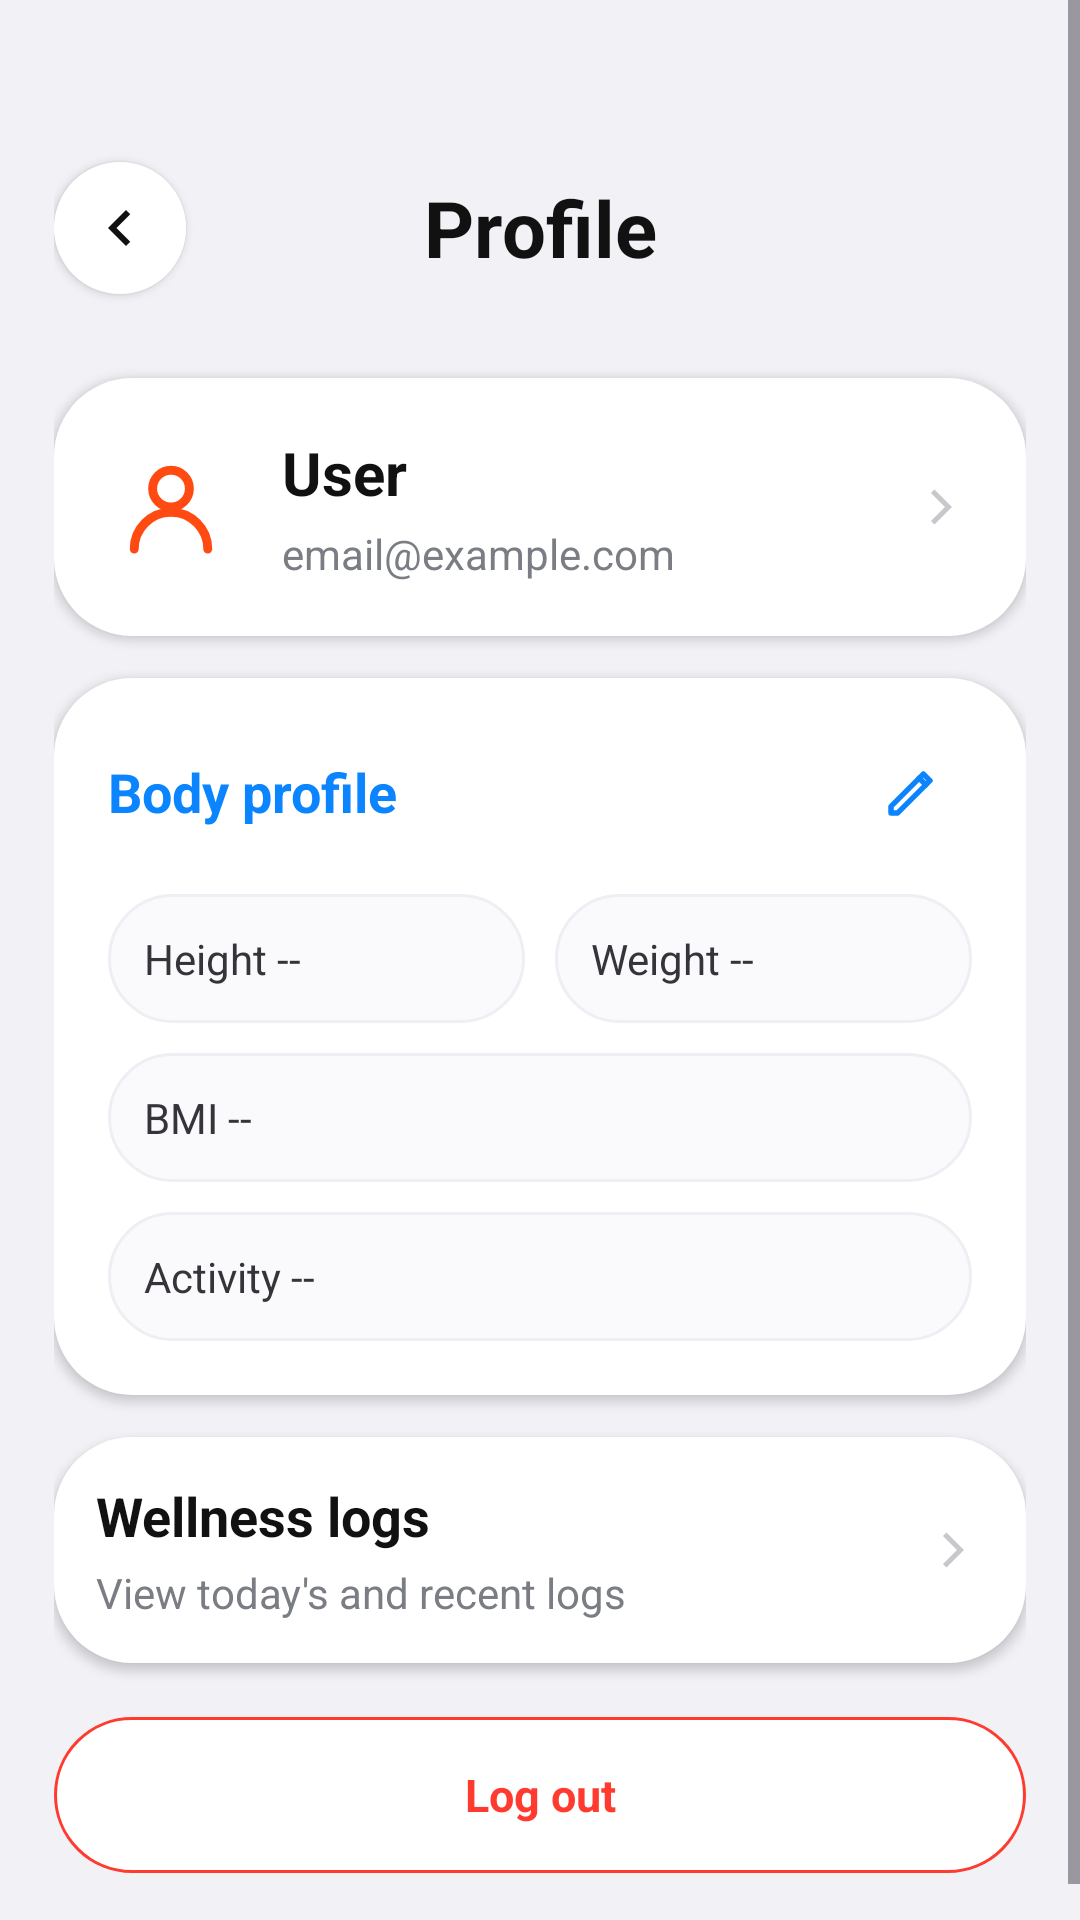

Icons on this 1080×1920 Android screen, each with the point to tap as (x,y):
chevron right: (941,507), (953,1550)
